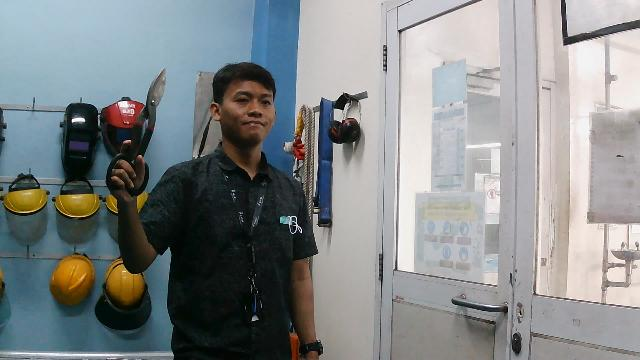gunting_plat: (98, 54, 189, 206)
